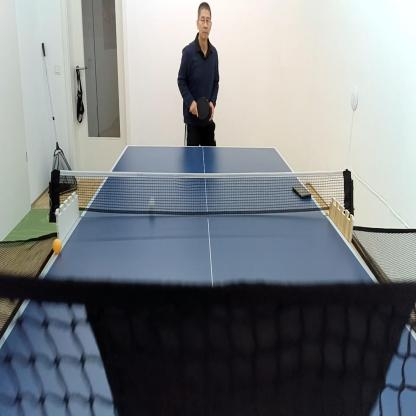Ball: (52, 237, 63, 256), (148, 194, 156, 208)
